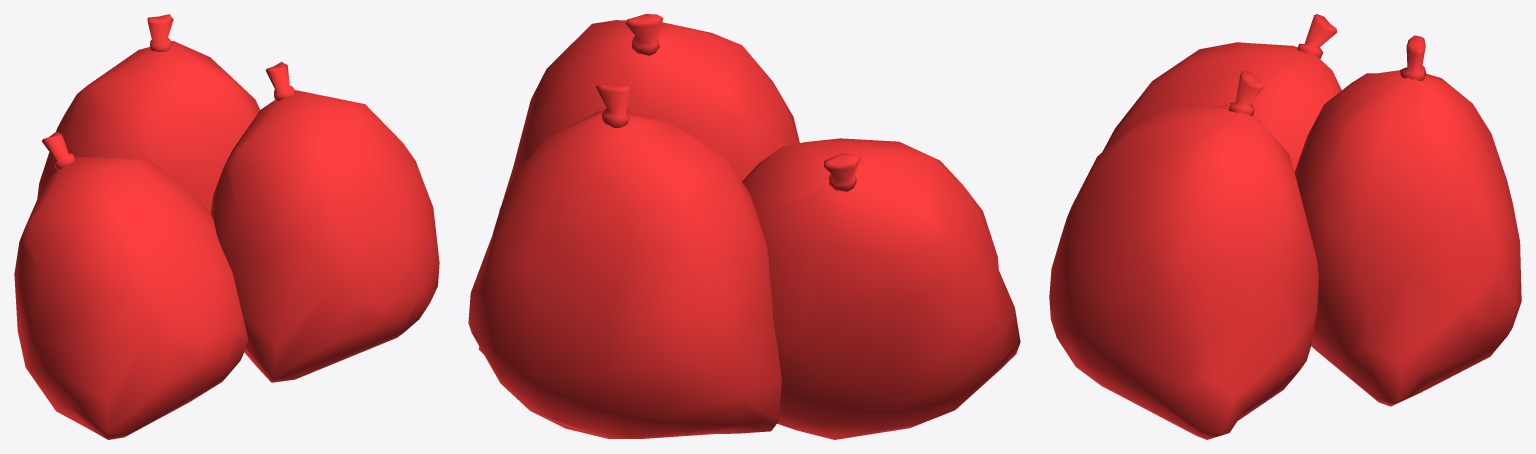
Rendered from garbage_pile_02.fbx.
3 views of the same model, side by side, from view 1: azimuth 30°, elevation 25°; view 2: azimuth 150°, elevation 25°; view 3: azimuth 270°, elevation 25° (orthographic). The views are drawn at different scales.
Parts seen in each view (by area): view 1: Group46827; view 2: Group46827; view 3: Group46827.
Part boxes in pixels (x1=…): Group46827: x1=14, y1=14, x2=439, y2=439; Group46827: x1=468, y1=14, x2=1020, y2=439; Group46827: x1=1049, y1=14, x2=1521, y2=439.
Bounding box in the file's own units: 160 × 117 × 138.
